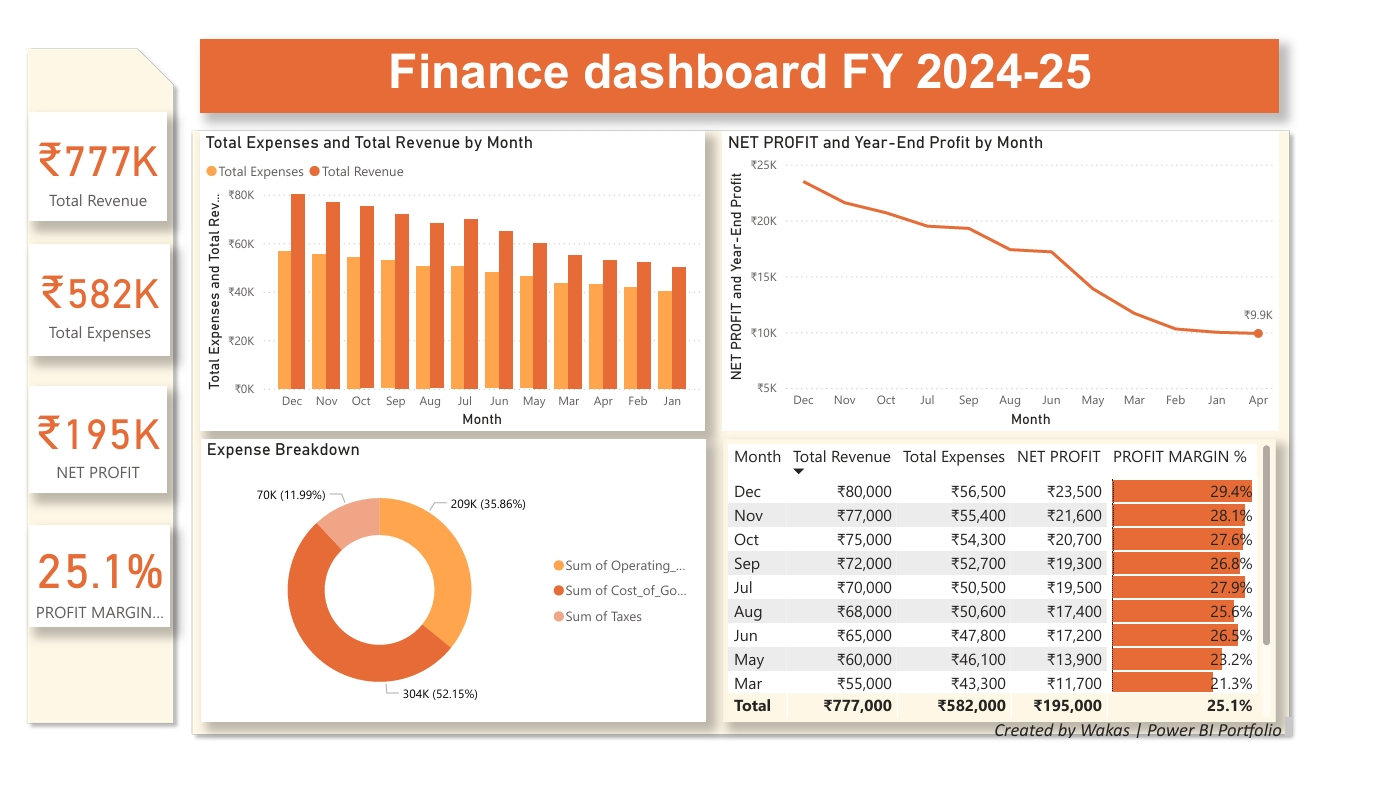

The page's visual inventory and layout, read from the dashboard file:
{"tool":"powerbi","page":{"name":"Page 1","canvas":[1280,720],"ordinal":0},"visuals":[{"type":"shape","box":[164.7,98.8,1115.6,621.6],"z":0},{"type":"shape","box":[0,16.5,164.7,693],"z":1000},{"type":"textbox","box":[182.9,16.6,1079.3,73.6],"z":2000},{"type":"card","fields":{"Values":["sample_financial_data.Total Revenue"]},"box":[11.9,90.2,137.7,109.2],"z":3000},{"type":"card","fields":{"Values":["sample_financial_data.Total Expenses"]},"box":[11.9,220.8,141.3,111.6],"z":4000},{"type":"card","fields":{"Values":["sample_financial_data.NET PROFIT"]},"box":[11.9,363.3,137.7,106.9],"z":5000},{"type":"card","fields":{"Values":["sample_financial_data.PROFIT MARGIN %"]},"box":[11.9,502.3,141.3,102.1],"z":6000},{"type":"clusteredColumnChart","fields":{"Category":["sample_financial_data.Month"],"Y":["sample_financial_data.Total Expenses","sample_financial_data.Total Revenue"]},"box":[182.9,109.2,504.6,300.4],"z":7000},{"type":"lineChart","fields":{"Y":["sample_financial_data.NET PROFIT","sample_financial_data.Last Month Profit"],"Category":["sample_financial_data.Month"]},"box":[705.3,109.2,556.9,300.4],"z":8000},{"type":"donutChart","title":"Expense Breakdown","fields":{"Y":["Sum(sample_financial_data.Operating_Expenses)","Sum(sample_financial_data.Cost_of_Goods_Sold)","Sum(sample_financial_data.Taxes)"]},"box":[184,416.8,504.6,282.6],"z":9000},{"type":"tableEx","fields":{"Values":["sample_financial_data.Month","sample_financial_data.Total Revenue","sample_financial_data.Total Expenses","sample_financial_data.NET PROFIT","sample_financial_data.PROFIT MARGIN %"]},"box":[705.3,416.8,553.3,282.6],"z":10000},{"type":"textbox","box":[971.2,690,308.8,30],"z":11000}]}

Visuals, with their boxes on the page's 1280x720 design canvas (x1, y1, x2, y2). These are canvas units, not pixel positions in the 1373x798 screenshot, which may show the page scaled, cropped or inside an application window:
shape: left=165, top=99, right=1280, bottom=720
shape: left=0, top=16, right=165, bottom=710
textbox: left=183, top=17, right=1262, bottom=90
card - sample_financial_data.Total Revenue: left=12, top=90, right=150, bottom=199
card - sample_financial_data.Total Expenses: left=12, top=221, right=153, bottom=332
card - sample_financial_data.NET PROFIT: left=12, top=363, right=150, bottom=470
card - sample_financial_data.PROFIT MARGIN %: left=12, top=502, right=153, bottom=604
clusteredColumnChart - sample_financial_data.Month x sample_financial_data.Total Expenses: left=183, top=109, right=688, bottom=410
lineChart - sample_financial_data.NET PROFIT x sample_financial_data.Last Month Profit: left=705, top=109, right=1262, bottom=410
"Expense Breakdown" donutChart: left=184, top=417, right=689, bottom=699
tableEx - sample_financial_data.Month x sample_financial_data.Total Revenue: left=705, top=417, right=1259, bottom=699
textbox: left=971, top=690, right=1280, bottom=720
